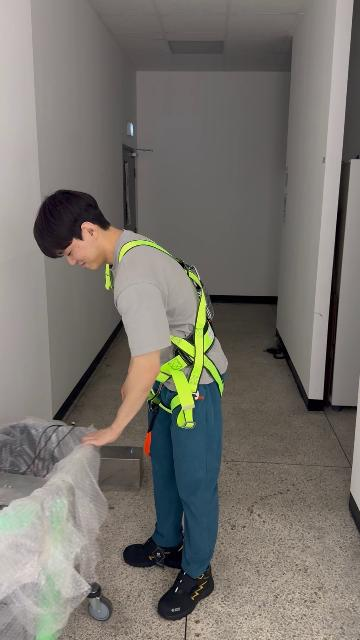helmet_not_worn: (34, 189, 110, 266)
shoe_worn: (157, 563, 214, 620), (122, 532, 183, 567)
vest_worn: (105, 238, 222, 420)
